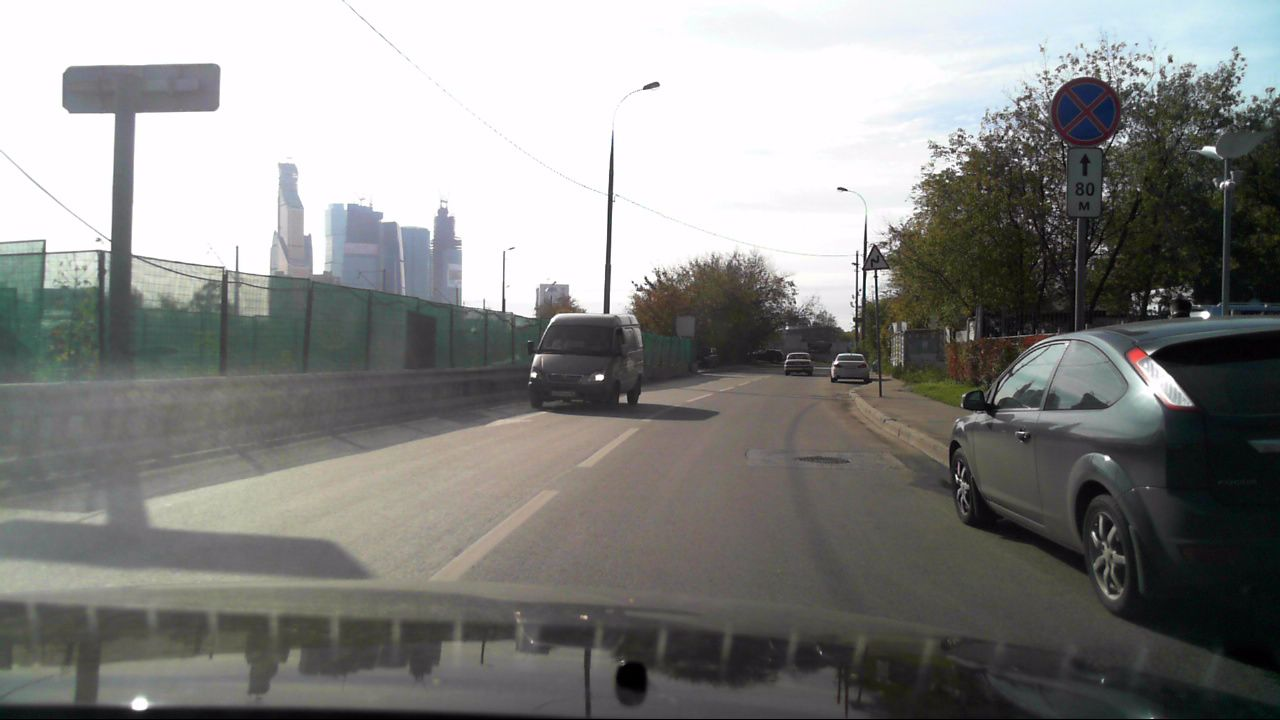No Parking: (1047, 73, 1125, 145)
